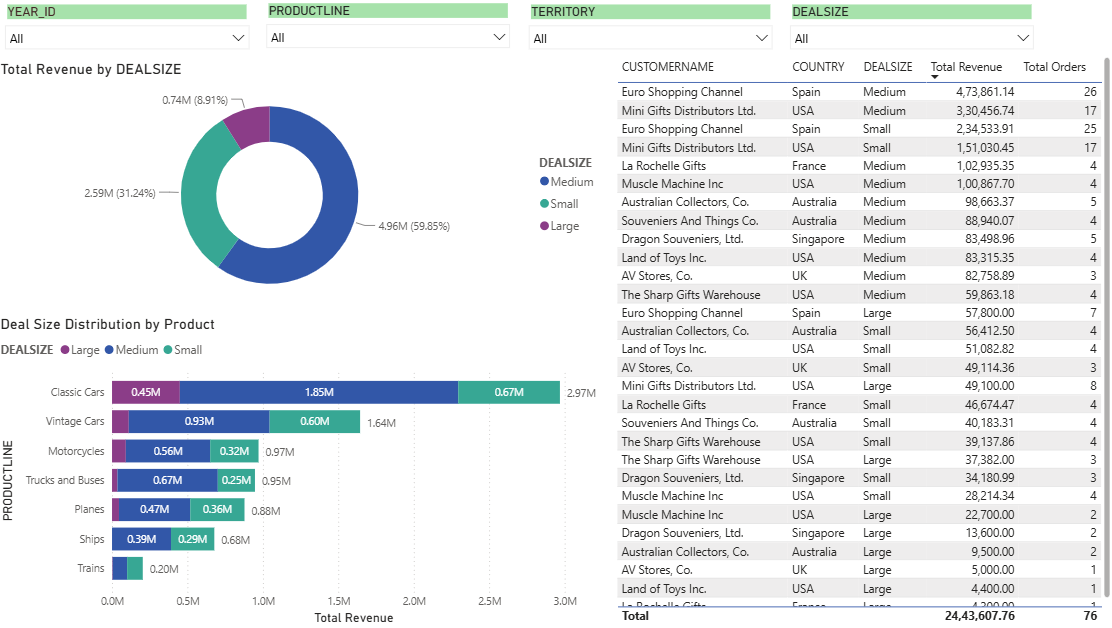

Layout of this report page (visuals, bound fields, positions):
{"tool":"powerbi","page":{"name":"Customers","canvas":[1280,720],"ordinal":3},"visuals":[{"type":"donutChart","fields":{"Category":["Sales.DEALSIZE"],"Y":["Sales.Total Revenue"]},"box":[0,69.8,704.7,289.4],"z":0},{"type":"tableEx","fields":{"Values":["Sales.CUSTOMERNAME","Sales.COUNTRY","Sales.DEALSIZE","Sales.Total Revenue","_Measures.Total Orders"]},"box":[704.7,61.3,575.3,658.7],"z":1000},{"type":"barChart","title":"Deal Size Distribution by Product","fields":{"Category":["Sales.PRODUCTLINE"],"Y":["Sales.Total Revenue"],"Series":["Sales.DEALSIZE"]},"box":[0,360.9,704.7,359.1],"z":2000},{"type":"slicer","fields":{"Values":["Sales.YEAR_ID"]},"box":[0,1.7,299.6,59.6],"z":3000},{"type":"slicer","fields":{"Values":["Sales.PRODUCTLINE"]},"box":[299.1,0,299.1,59],"z":4000},{"type":"slicer","fields":{"Values":["Sales.TERRITORY"]},"box":[598.3,1.4,299.1,59],"z":5000},{"type":"slicer","fields":{"Values":["Sales.DEALSIZE"]},"box":[897.4,1.4,299.1,59],"z":6000}]}

Visuals, with their boxes in screenshot pixels (x1, y1, x2, y2), scaled from the page's 1280x720 canvas onto the 1112x628 screenshot:
donutChart - Sales.DEALSIZE x Sales.Total Revenue: 0,61,612,313
tableEx - Sales.CUSTOMERNAME x Sales.COUNTRY: 612,53,1111,627
"Deal Size Distribution by Product" barChart: 0,315,612,627
slicer - Sales.YEAR_ID: 0,1,260,53
slicer - Sales.PRODUCTLINE: 260,0,520,51
slicer - Sales.TERRITORY: 520,1,780,53
slicer - Sales.DEALSIZE: 780,1,1039,53
